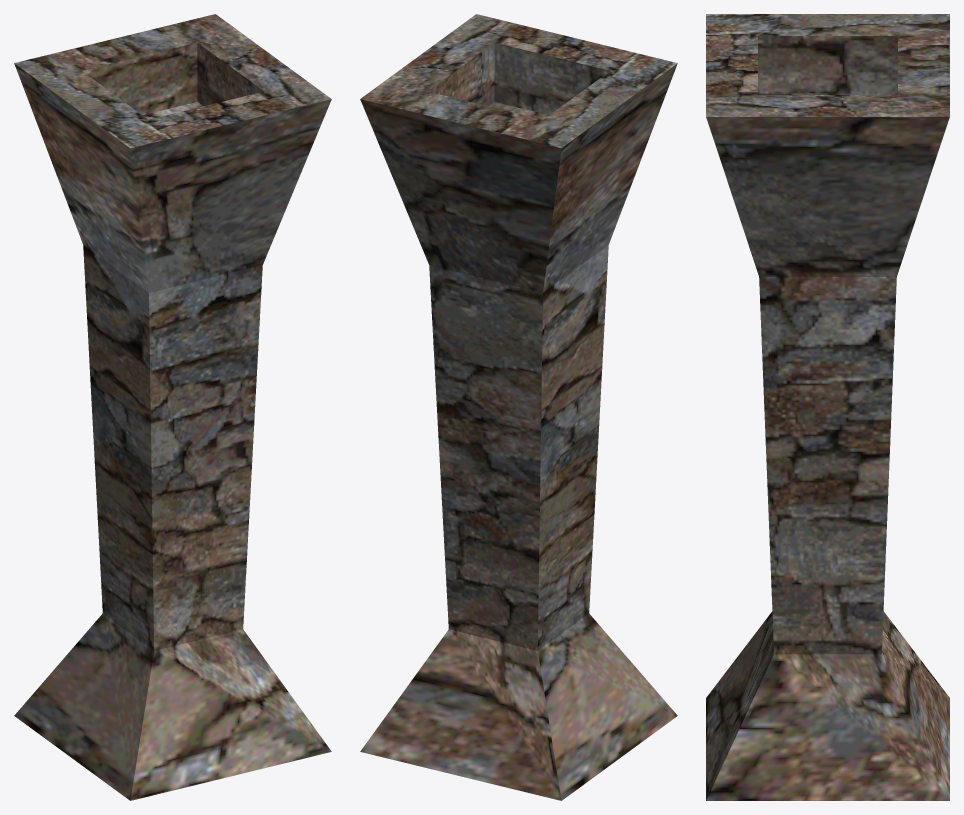
File: LightHolderModel.fbx
3 views of the same model, side by side, from view 1: azimuth 30°, elevation 25°; view 2: azimuth 150°, elevation 25°; view 3: azimuth 270°, elevation 25° (orthographic). The views are drawn at different scales.
Visible parts, largest first — view 1: LightHolder; view 2: LightHolder; view 3: LightHolder.
Part boxes in pixels (x1,y1,x2,y2): LightHolder: [14, 14, 331, 800]; LightHolder: [360, 14, 677, 800]; LightHolder: [706, 14, 949, 800].
Size of the model in its own units: 0.646 by 2 by 0.646.
